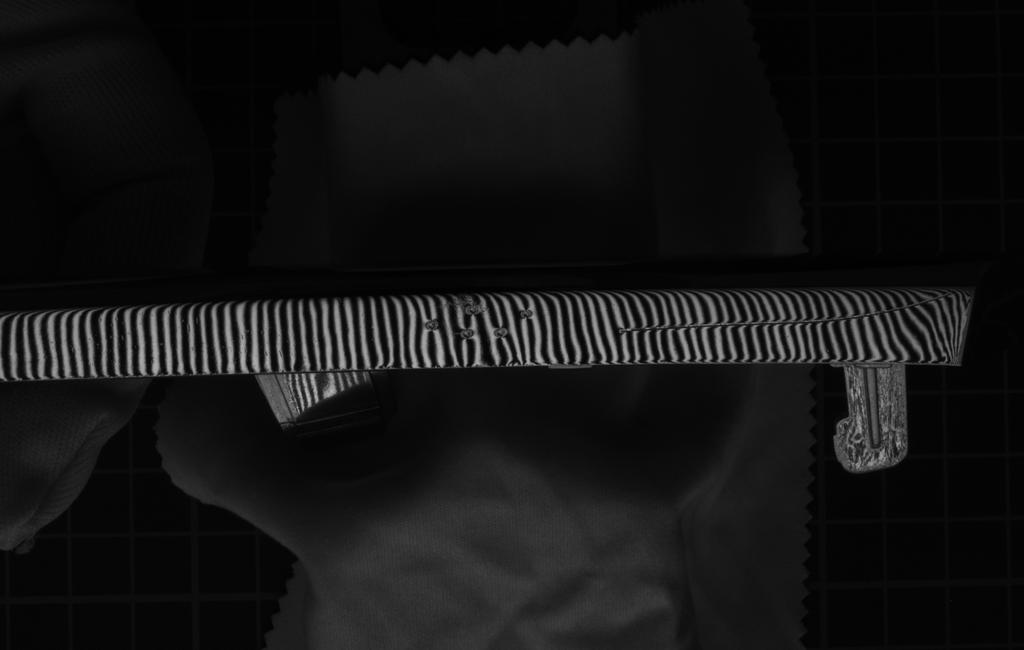Pierced: (415, 313, 444, 336), (514, 304, 541, 326), (453, 325, 479, 344), (487, 322, 511, 342), (462, 304, 483, 317)
Pitting: (446, 293, 481, 311)
Scratch: (618, 292, 969, 341)
